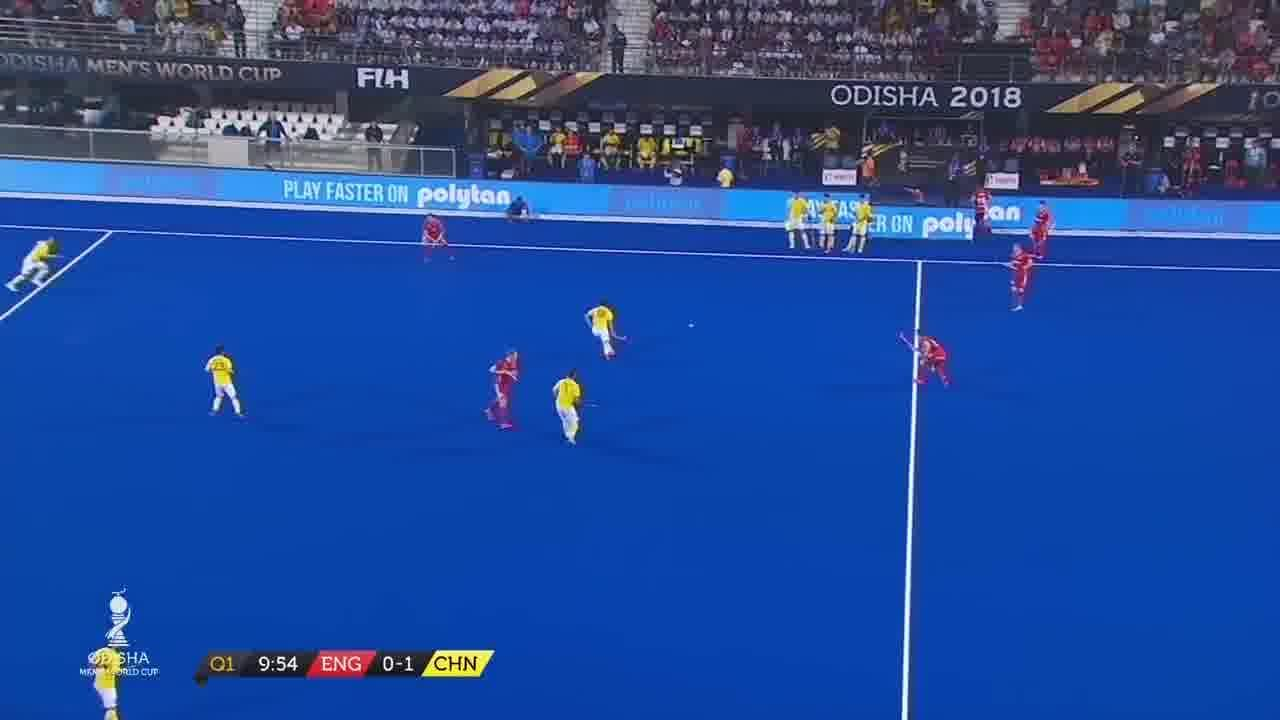ball: (686, 318, 696, 332)
